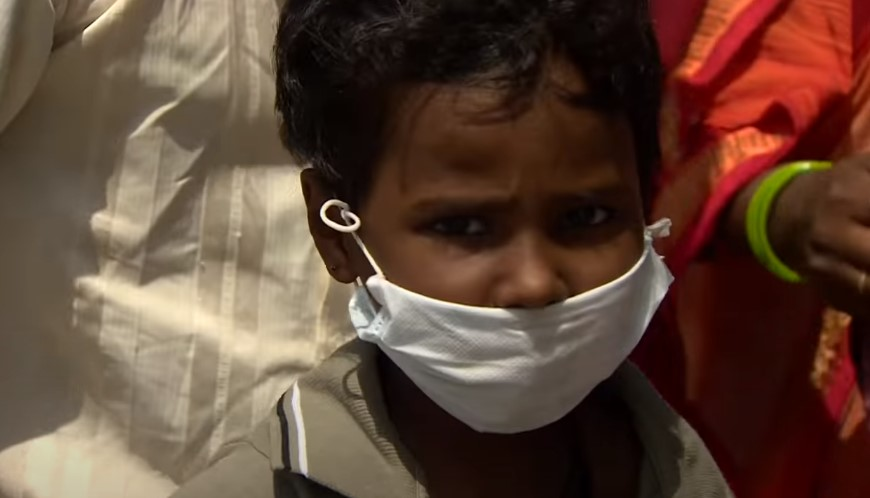face_with_mask: (308, 7, 676, 436)
